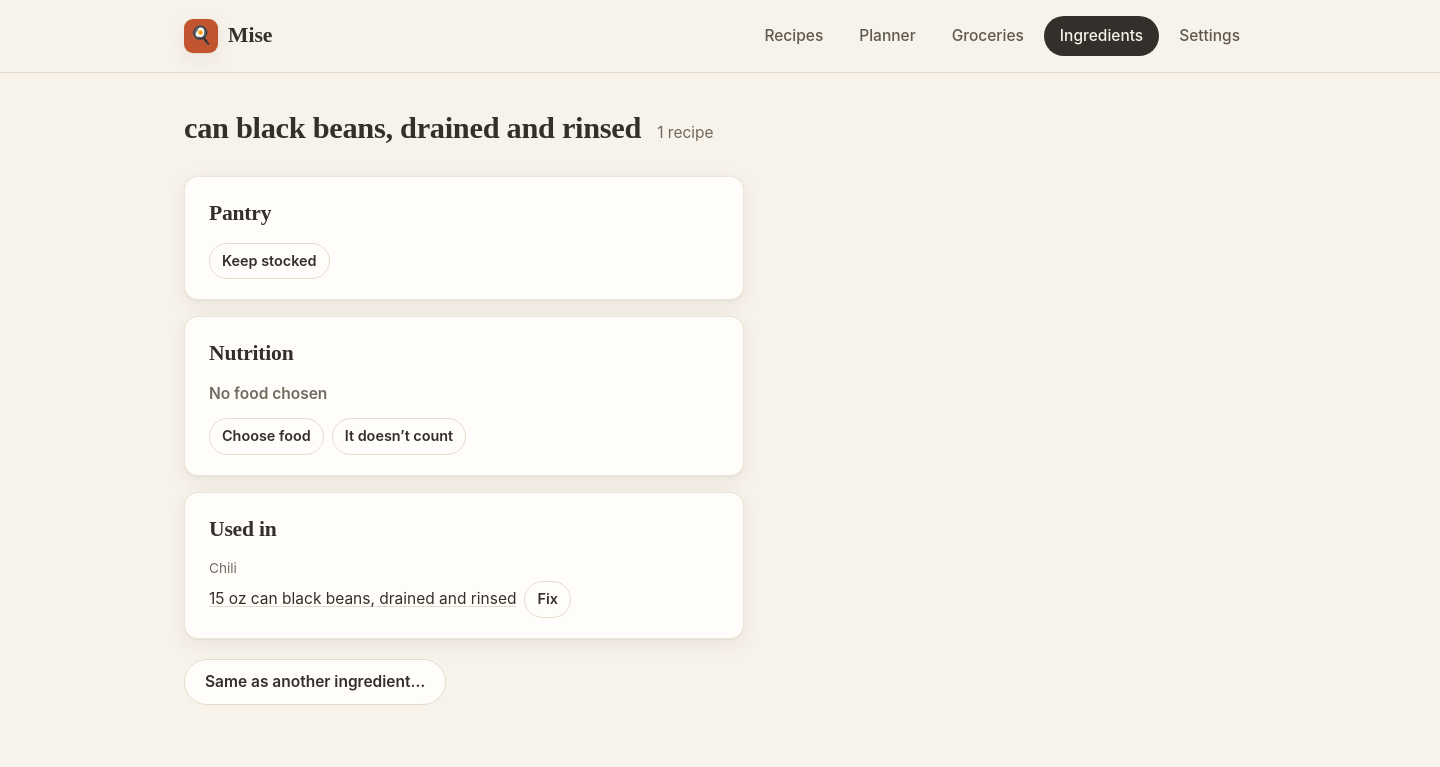
Test: IngredientPage: fixing lines › refuses a quantity it cannot read, and sends nothing
Expected: the heading "can black beans, drained and rinsed" is shown, [184, 105, 641, 152]
Click the button "Fix" at (548, 599), box [524, 581, 571, 618]
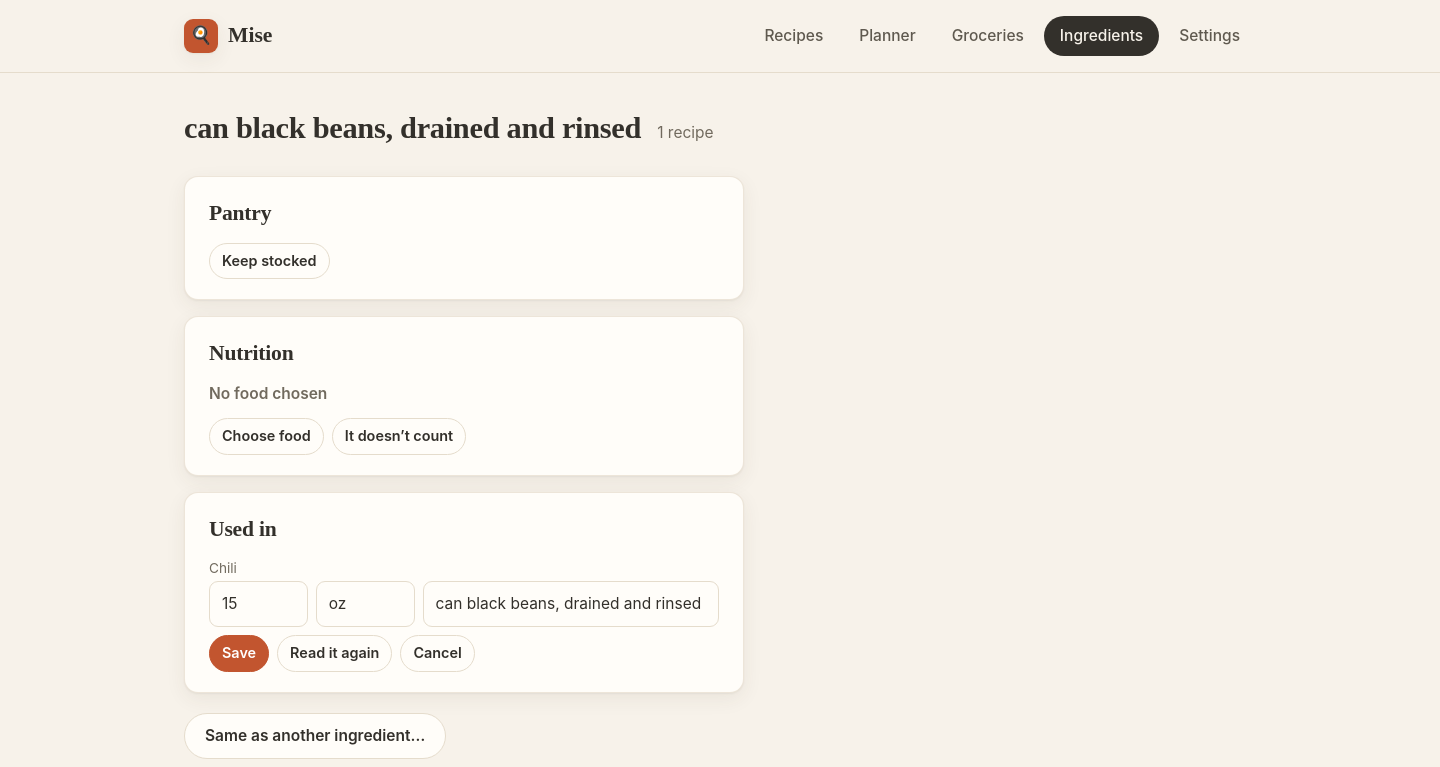
Replace the text in the field named "Quantity" with "abc" at (258, 604), box [209, 581, 308, 627]
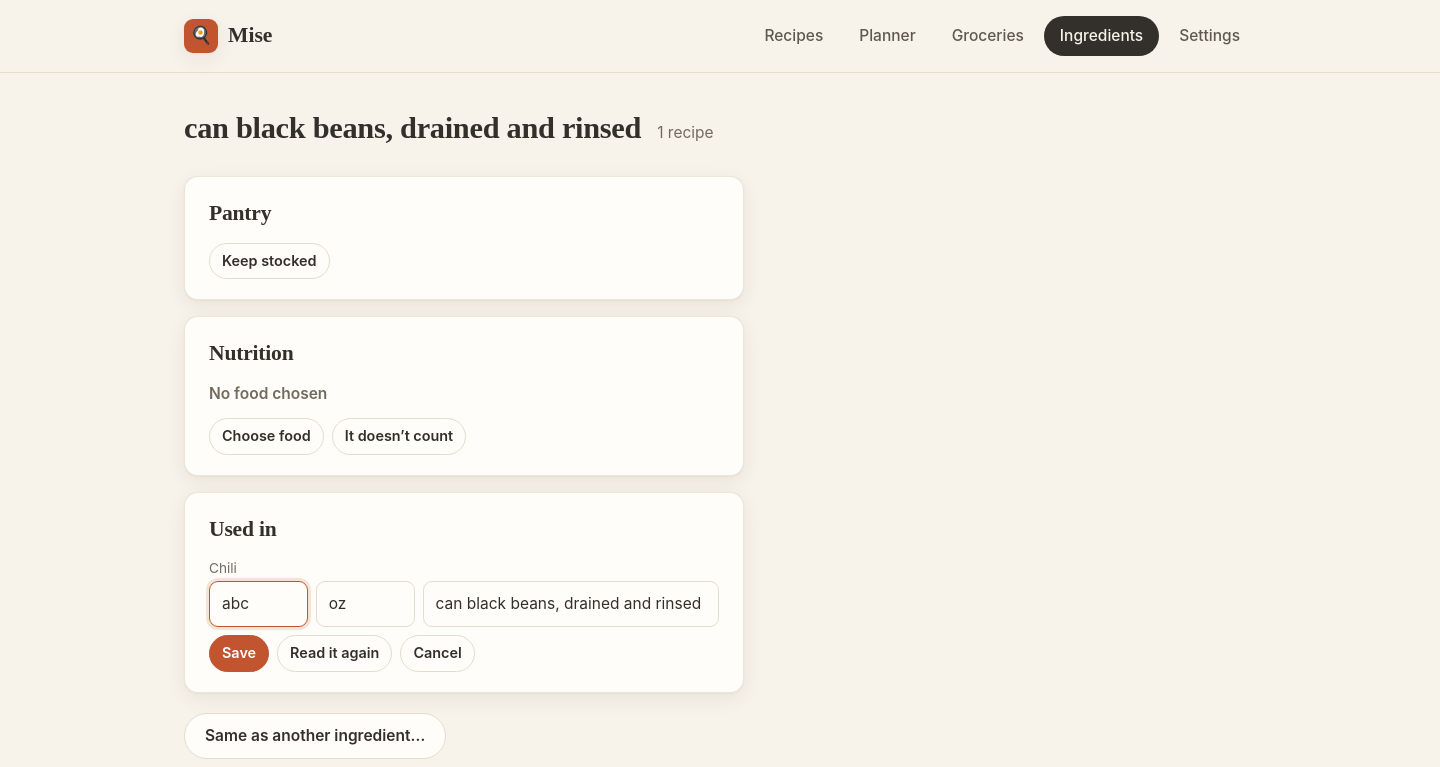
Click the button "Save" at (239, 653), box [209, 635, 269, 672]
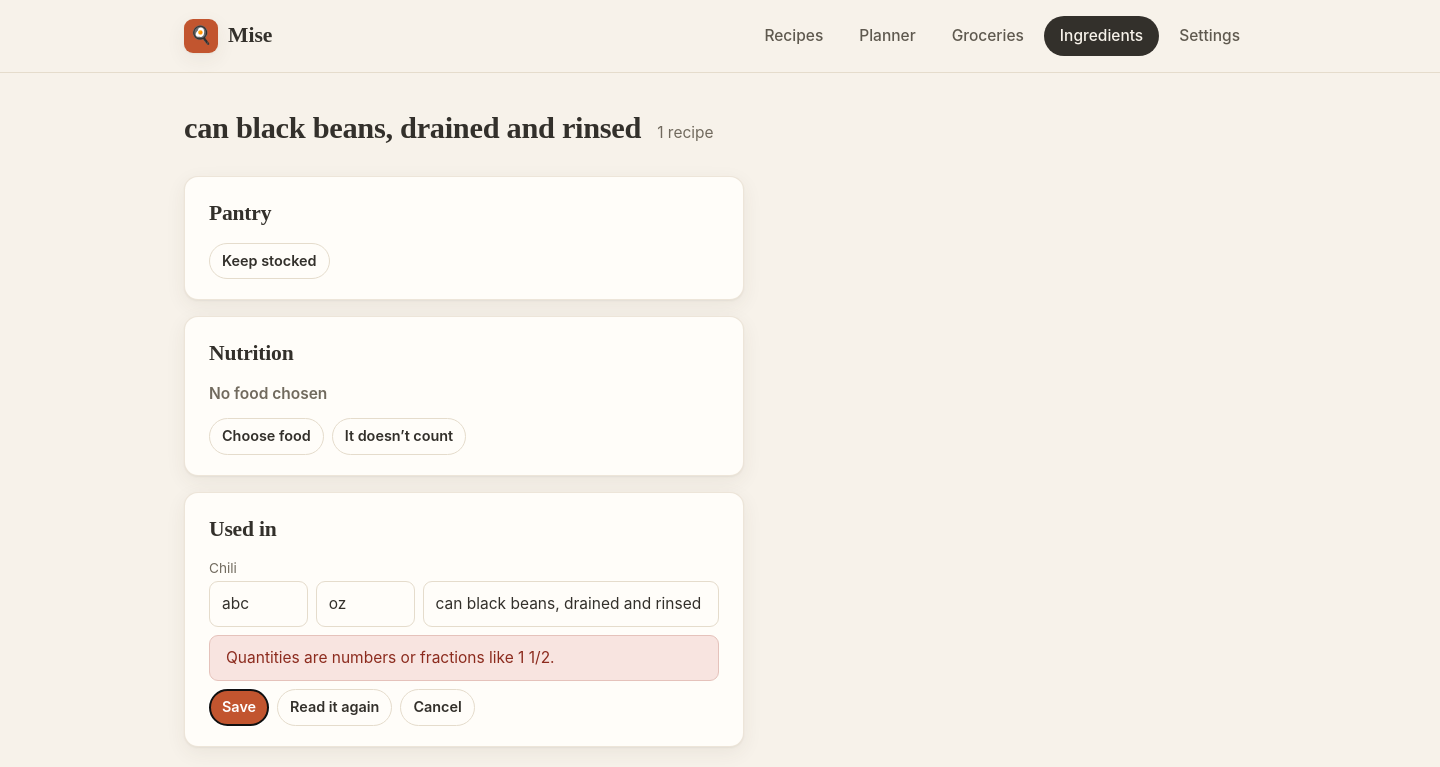
Result: the text "Quantities are numbers or fractions like 1 1/2." is shown at [209, 635, 719, 681]
